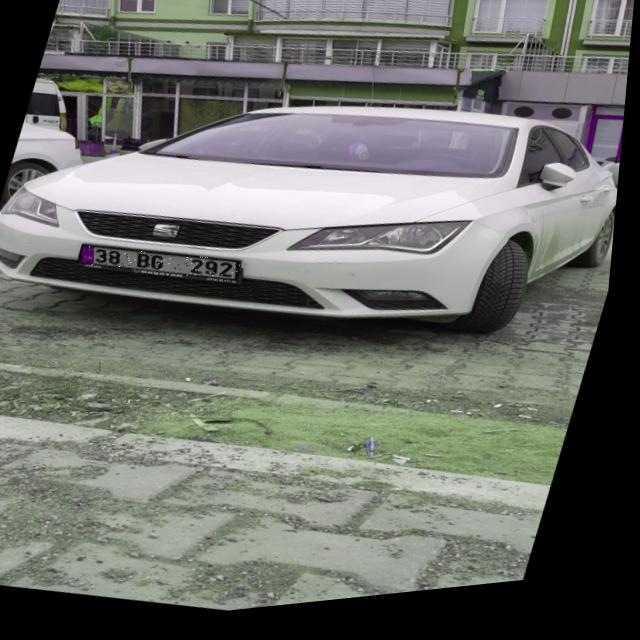license_plate: (79, 231, 253, 300)
